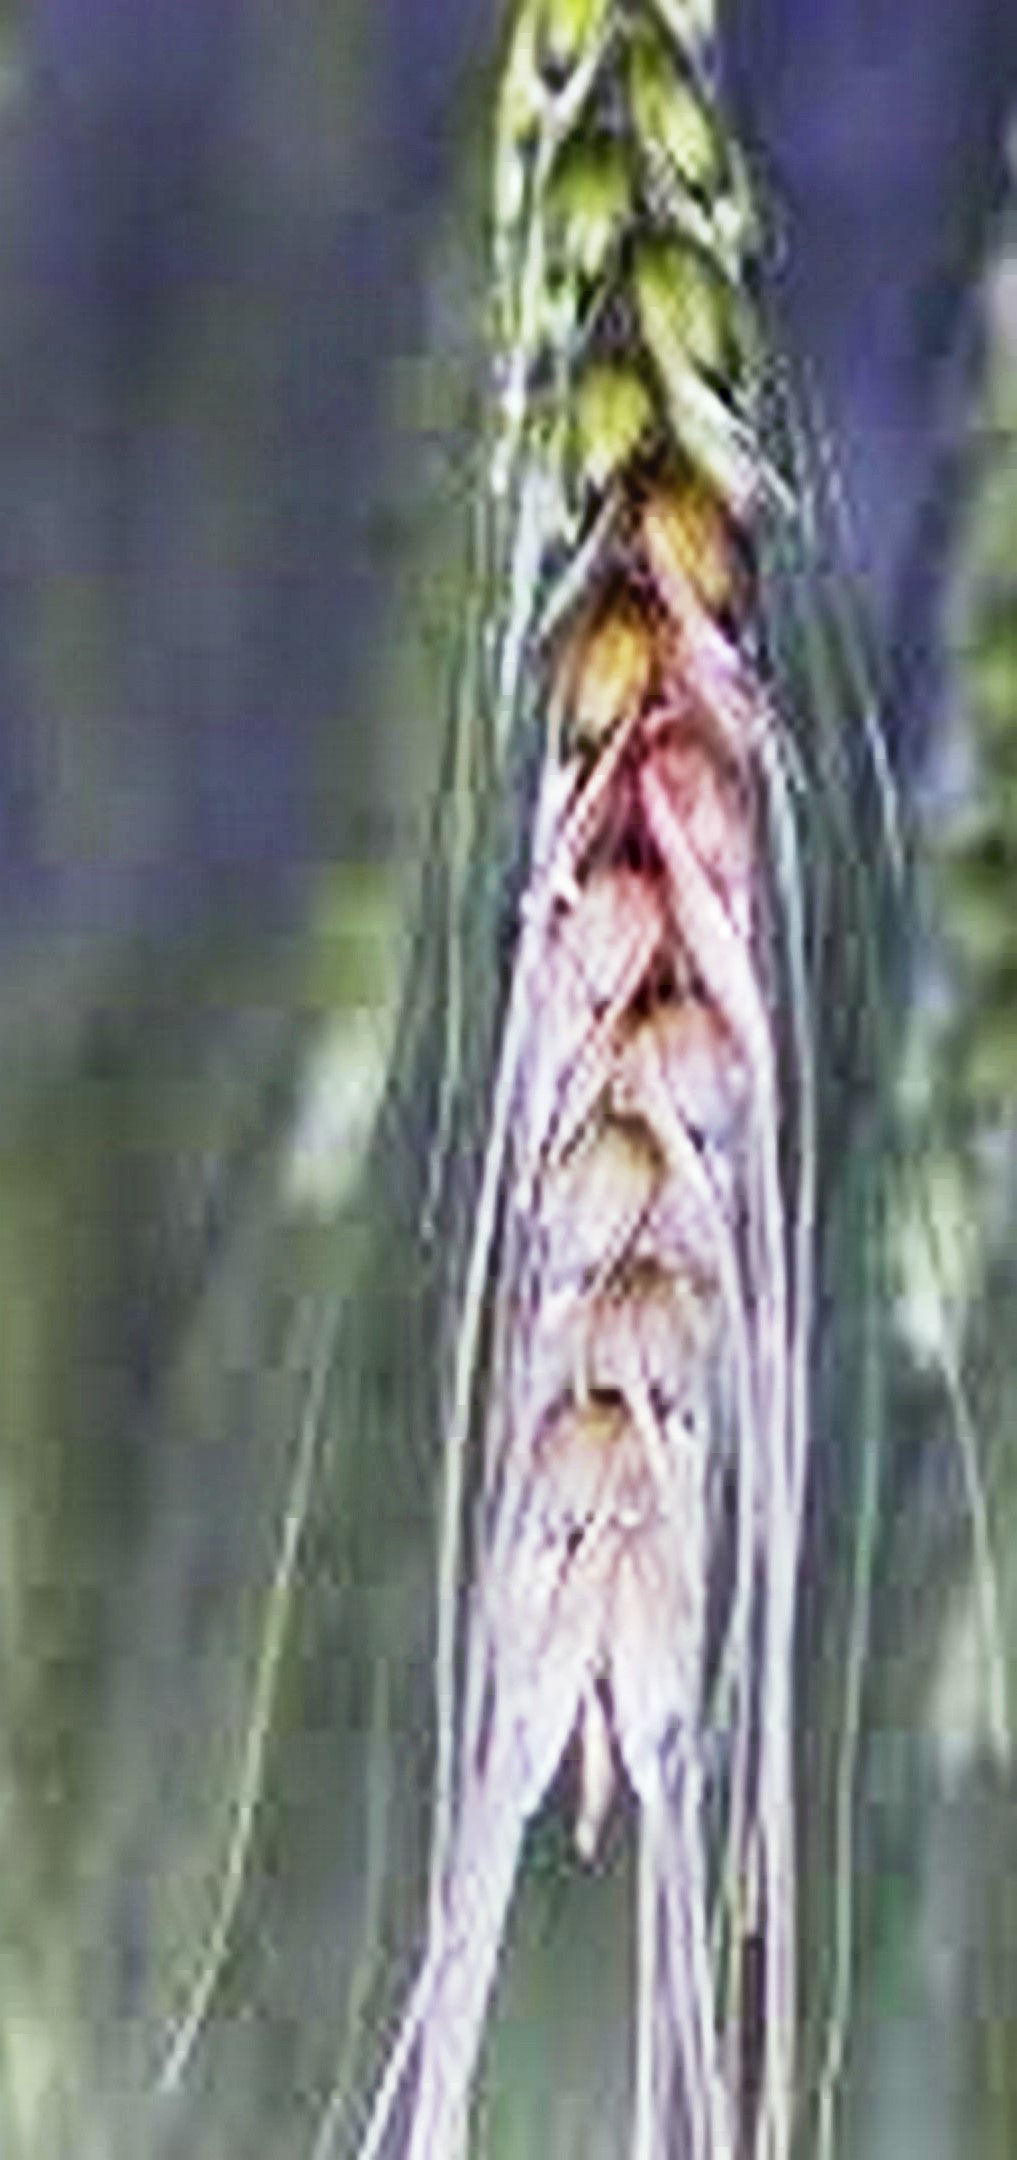Wheat scab: (430, 39, 814, 1845)
